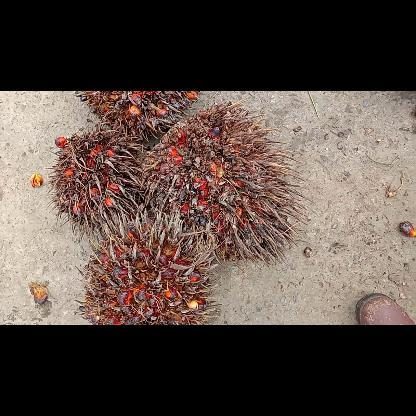Terlalu masak: (138, 95, 306, 267), (74, 210, 224, 324), (44, 126, 162, 240), (71, 91, 205, 143)
